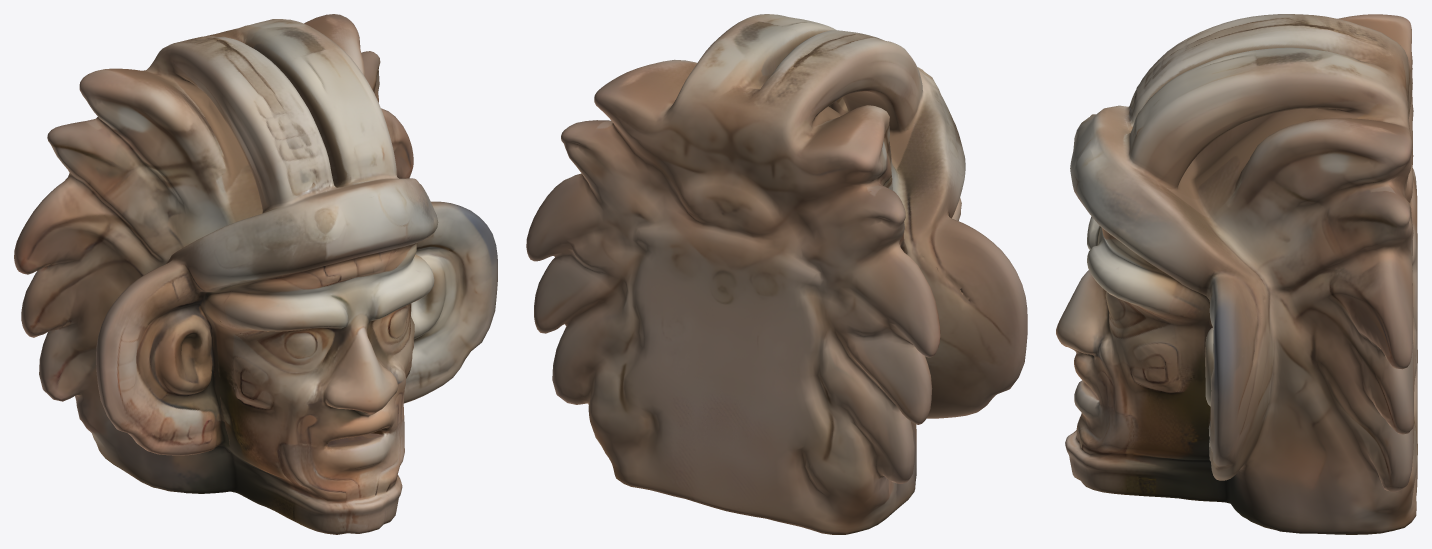
Rendered from base_basic_pbr.glb.
The picture shows the model from 3 angles, left to right: view 1: azimuth 30°, elevation 25°; view 2: azimuth 150°, elevation 25°; view 3: azimuth 270°, elevation 25°; orthographic projection. The views are drawn at different scales.
Visible parts, largest first — view 1: model; view 2: model; view 3: model.
Boxes of the visible parts, x1,y1,x2,y2 form: model: (14,14,497,534); model: (526,14,1027,534); model: (1056,14,1417,534).
Size of the model in its own units: 1.91 by 1.9 by 1.43.
Materials: 1 (1 with a texture image).
